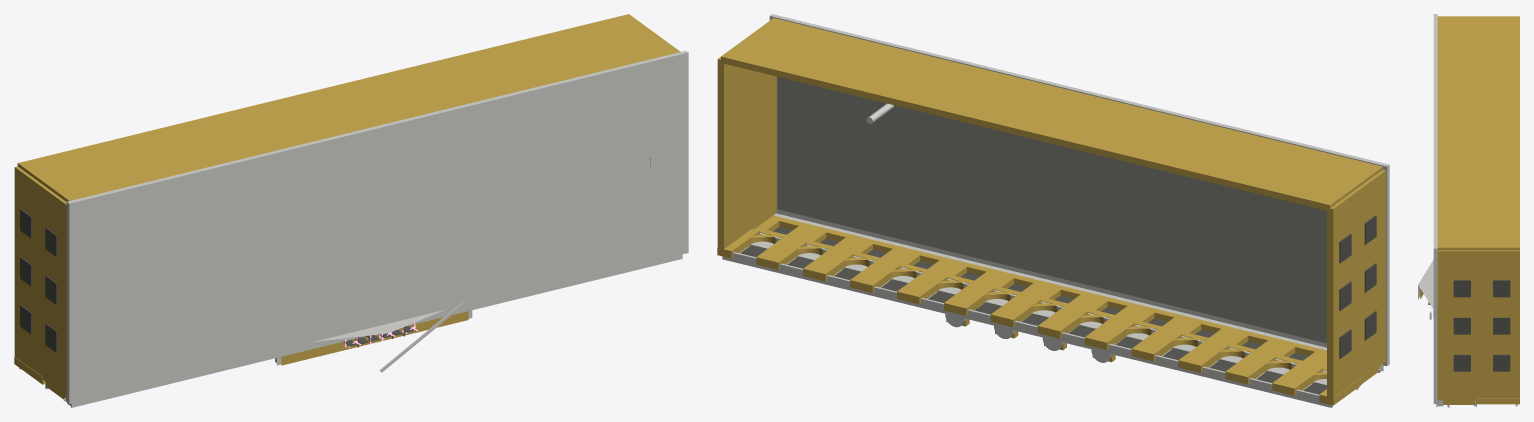
Rendered from aduana-barranquilla.glb.
3 renders of one model, left to right at view 1: azimuth 30°, elevation 25°; view 2: azimuth 150°, elevation 25°; view 3: azimuth 270°, elevation 25°, orthographic. The views are drawn at different scales.
Parts seen in each view (by area): view 1: roof_slab, rear_wall, left_wall, top_parapet_cap, central_pediment_yellow, central_pediment_white; view 2: roof_inner, rear_wall, left_wall, right_wall, roof_slab, ground_base_band, top_parapet, upper_cornice; view 3: rear_wall, right_wall, roof_slab, central_pediment_white, side_window_R_0_-4.5, side_window_R_0_0, side_window_R_0_4.5, side_window_R_1_-4.5, side_window_R_1_0, side_window_R_1_4.5, ground_pier_13, upper_wall_right_12.
Part boxes in pixels (x1,y1,x2,y2): roof_slab: (66, 50, 688, 403); rear_wall: (17, 14, 680, 201); left_wall: (14, 166, 66, 396); top_parapet_cap: (71, 254, 682, 407); central_pediment_yellow: (281, 311, 468, 365); central_pediment_white: (276, 309, 472, 365); roof_inner: (777, 77, 1326, 343); rear_wall: (721, 18, 1382, 211); left_wall: (1327, 170, 1385, 400); right_wall: (717, 57, 776, 251); roof_slab: (769, 14, 1389, 366); ground_base_band: (722, 252, 1332, 407); top_parapet: (775, 213, 1383, 371); upper_cornice: (774, 214, 1380, 372); rear_wall: (1437, 16, 1519, 250); right_wall: (1437, 250, 1519, 400); roof_slab: (1433, 14, 1437, 403); central_pediment_white: (1418, 259, 1433, 308); side_window_R_0_-4.5: (1493, 354, 1510, 371); side_window_R_0_0: (1493, 317, 1510, 334); side_window_R_0_4.5: (1493, 280, 1510, 297); side_window_R_1_-4.5: (1453, 354, 1470, 371); side_window_R_1_0: (1453, 317, 1470, 334); side_window_R_1_4.5: (1453, 280, 1470, 297); ground_pier_13: (1476, 398, 1519, 404); upper_wall_right_12: (1447, 400, 1470, 404).
Size of the model in its own units: 60.8 by 22.77 by 11.15.
